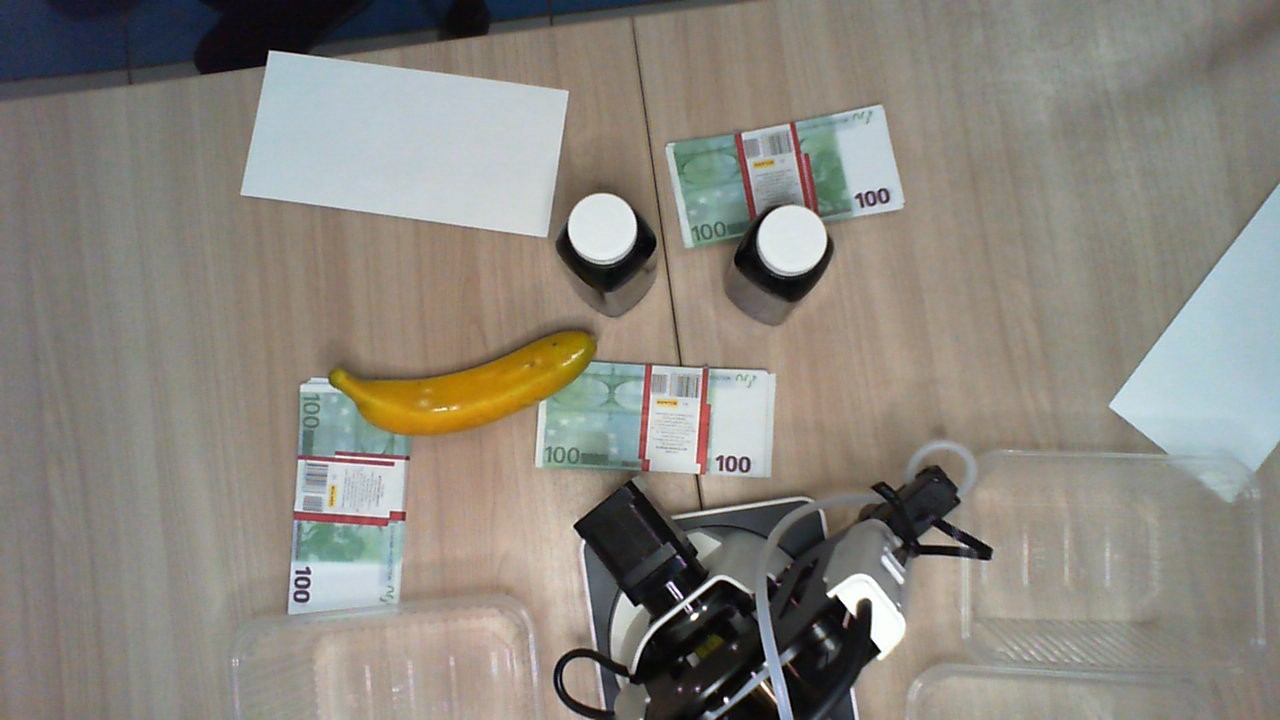banana: (328, 327, 599, 440)
bottle: (558, 190, 655, 290), (736, 203, 833, 297)
convert: (241, 49, 569, 242), (1108, 186, 1280, 501)
money: (665, 105, 903, 251), (286, 375, 418, 635), (528, 361, 773, 480)
